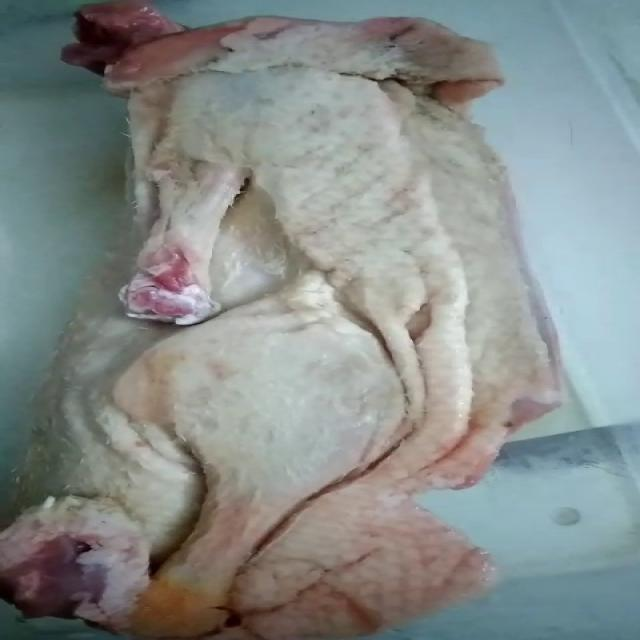chicken: (1, 0, 559, 640)
